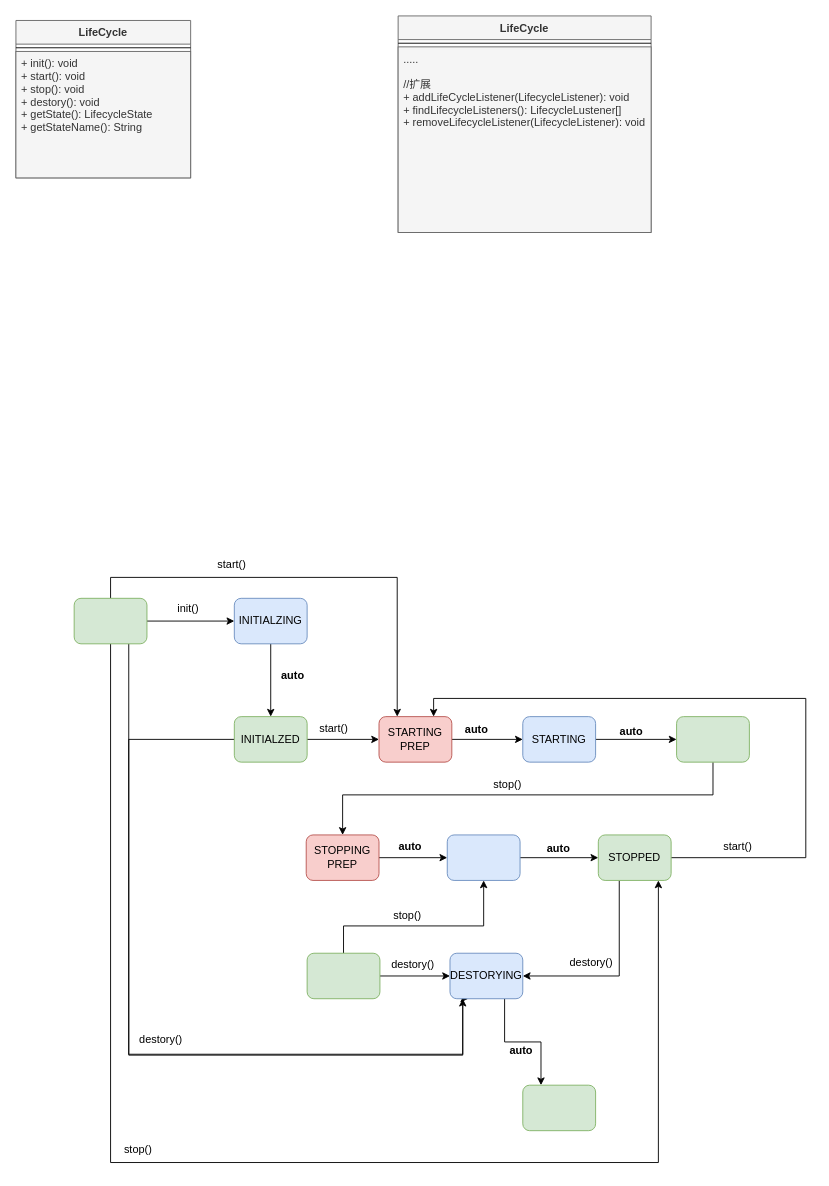
This 829x1186 diagram has some shape labels left out. The shapes that lost their labels are listed below. From the top down, each one's box as (x1, y1, x2, y2) in pixels, then its label:
(73, 597, 147, 644): NEW
(676, 716, 749, 762): STARTED
(446, 834, 520, 880): STOPPING
(306, 952, 380, 999): FAILED
(522, 1084, 596, 1131): DESTORYED
